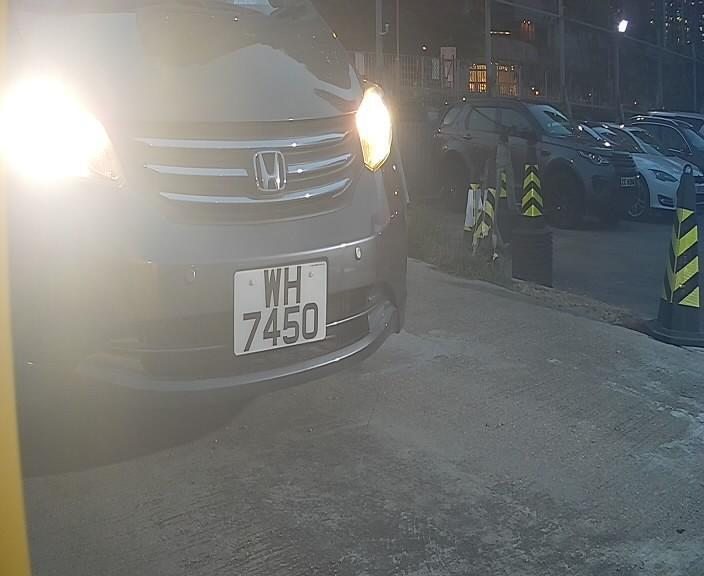privatecar: (26, 1, 419, 451)
